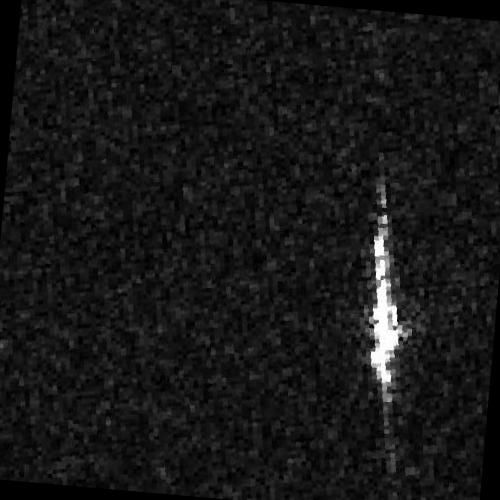ship: (369, 217, 401, 414)
